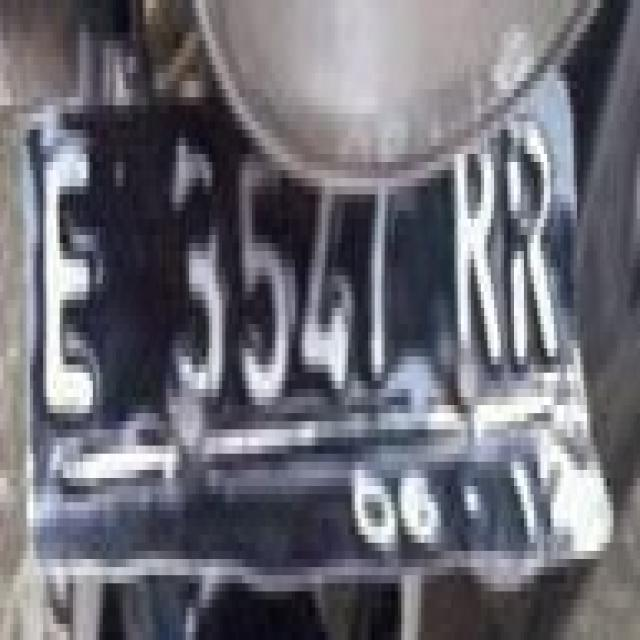plate: (22, 94, 603, 556)
